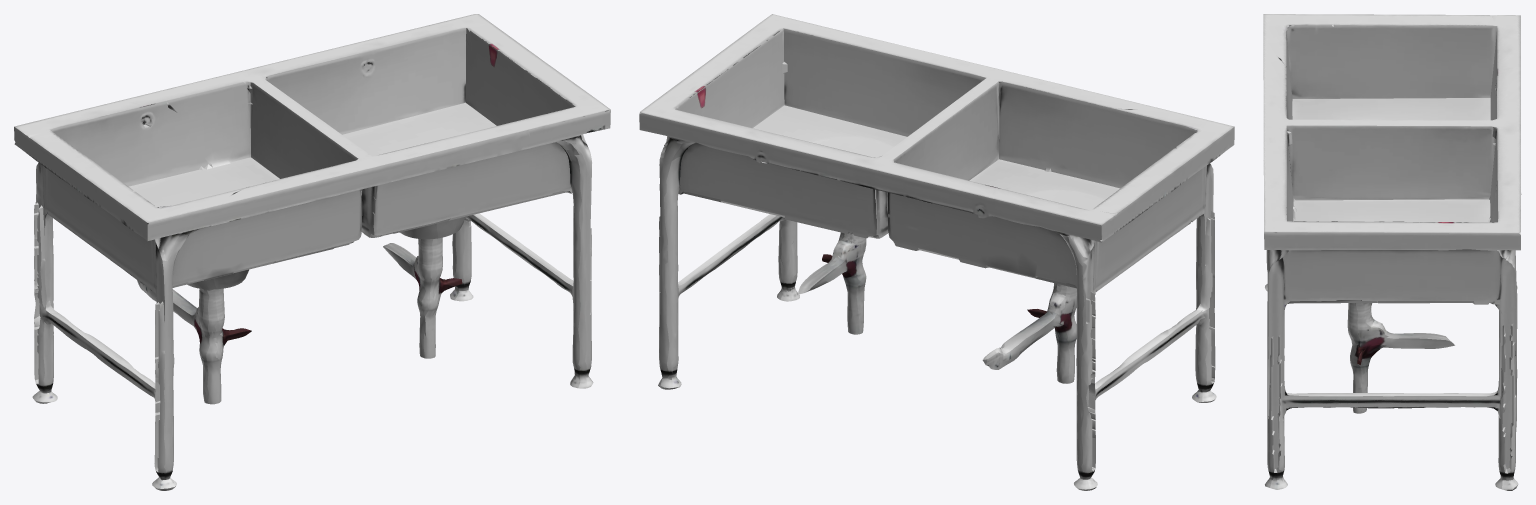
3 views of the same model, side by side, from view 1: azimuth 30°, elevation 25°; view 2: azimuth 150°, elevation 25°; view 3: azimuth 270°, elevation 25° (orthographic). The views are drawn at different scales.
Bounding box in the file's own units: 1.5 × 0.85 × 0.7499.
1 material, 1 textured.
